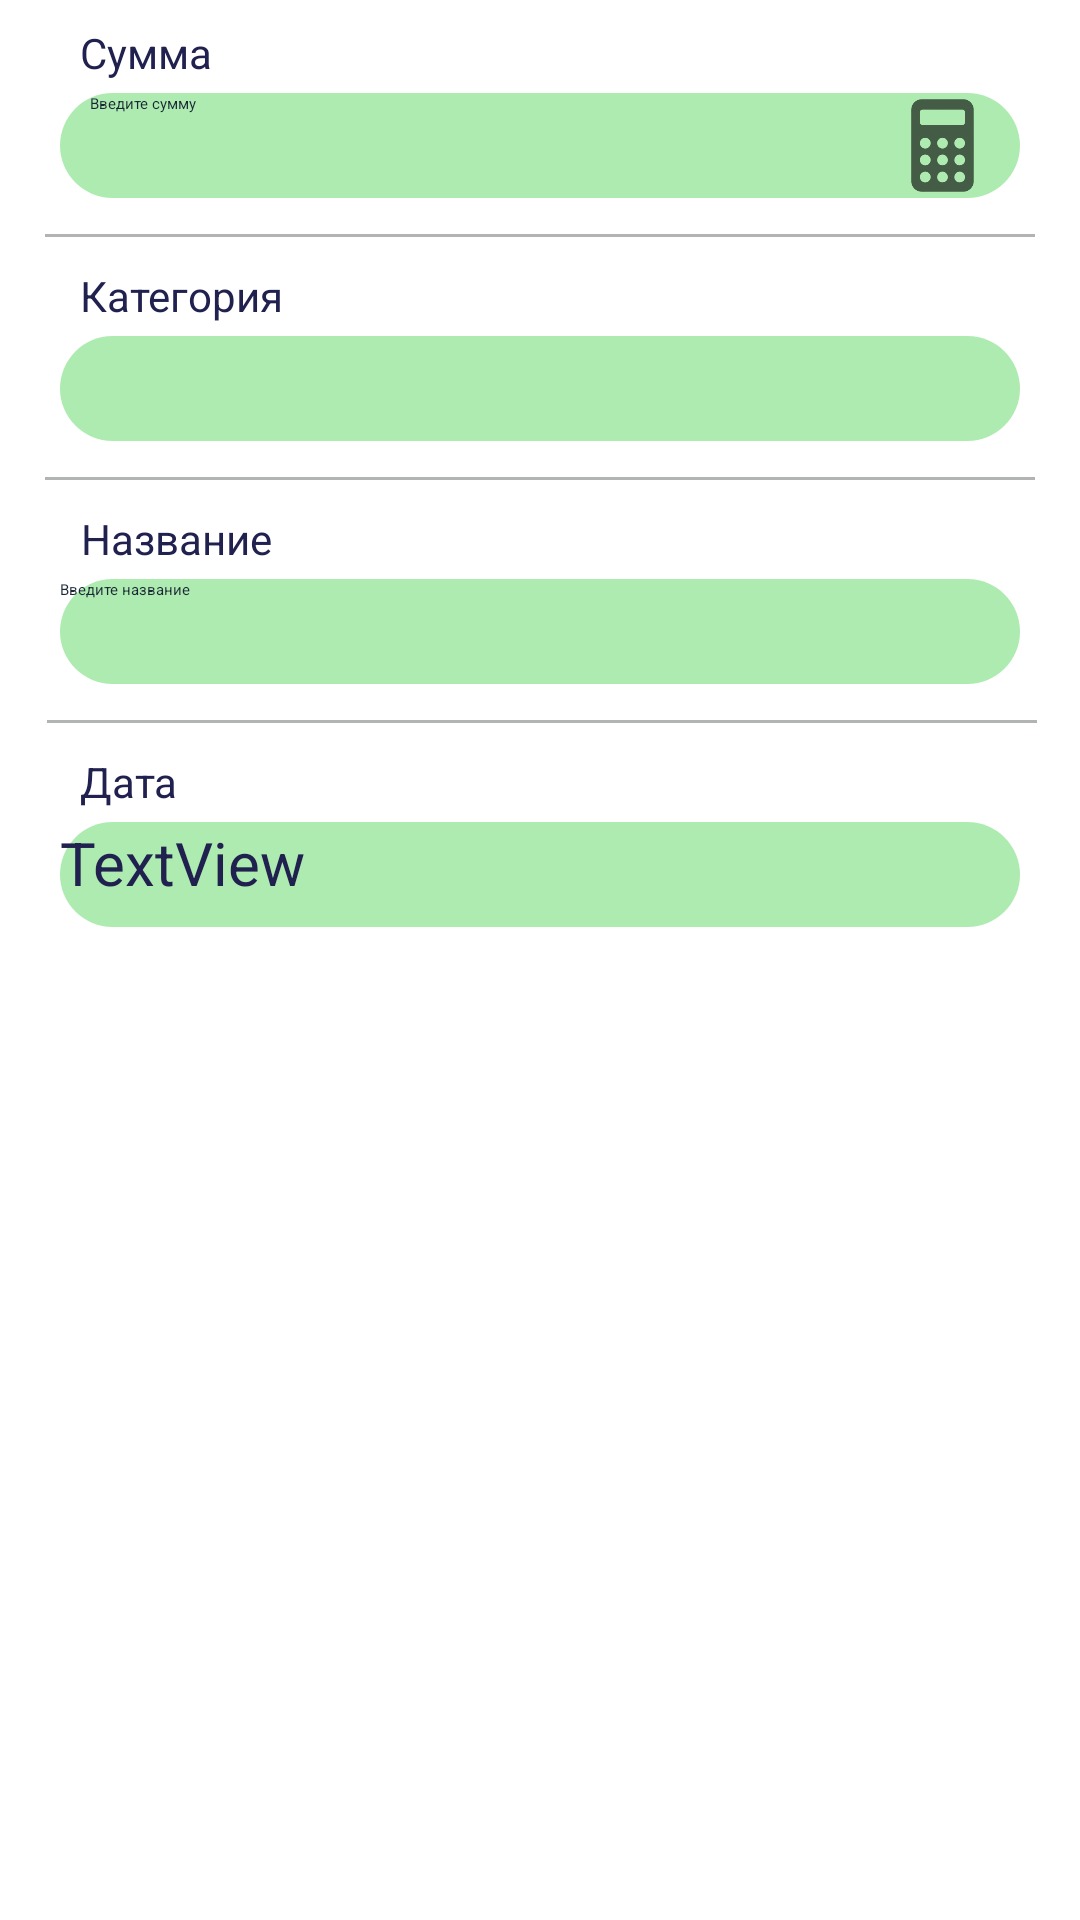

Icons on this 1080 × 1920 Android screen, each with its box as (x1, y1, x2, y2):
calculator: (911, 99, 974, 192)
